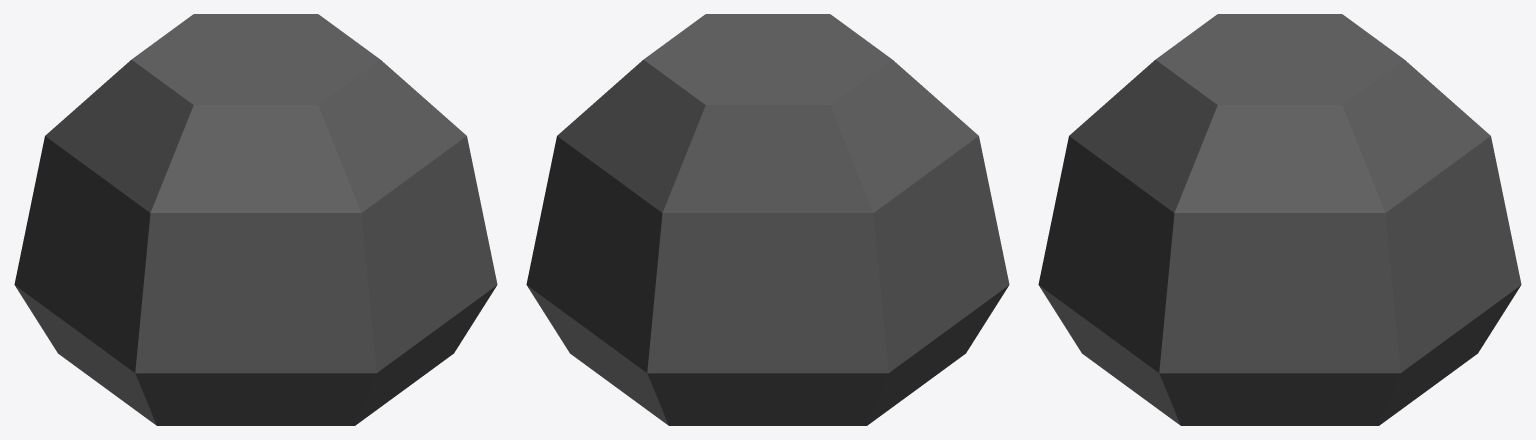
File: rockBlack.fbx
The picture shows the model from 3 angles, left to right: view 1: azimuth 30°, elevation 25°; view 2: azimuth 150°, elevation 25°; view 3: azimuth 270°, elevation 25°; orthographic projection.
Parts seen in each view (by area): view 1: stone_smallI; view 2: stone_smallI; view 3: stone_smallI.
Boxes of the visible parts, bbox=[...] form: stone_smallI: bbox=[14, 14, 497, 425]; stone_smallI: bbox=[526, 14, 1009, 425]; stone_smallI: bbox=[1038, 14, 1521, 425].
Size of the model in its own units: 0.8298 by 0.6433 by 0.9581.
